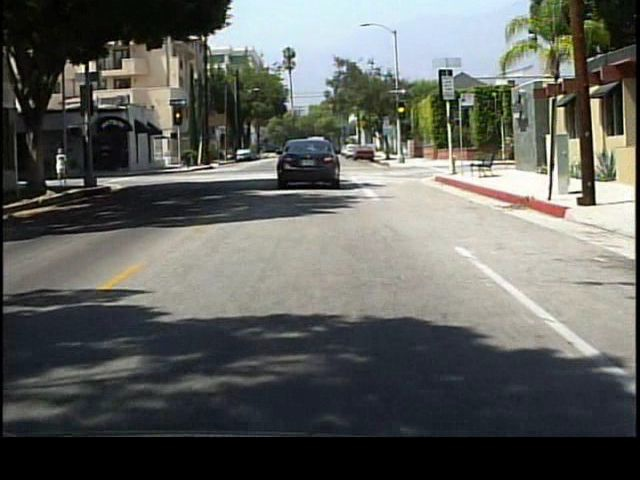person: (56, 145, 75, 189)
